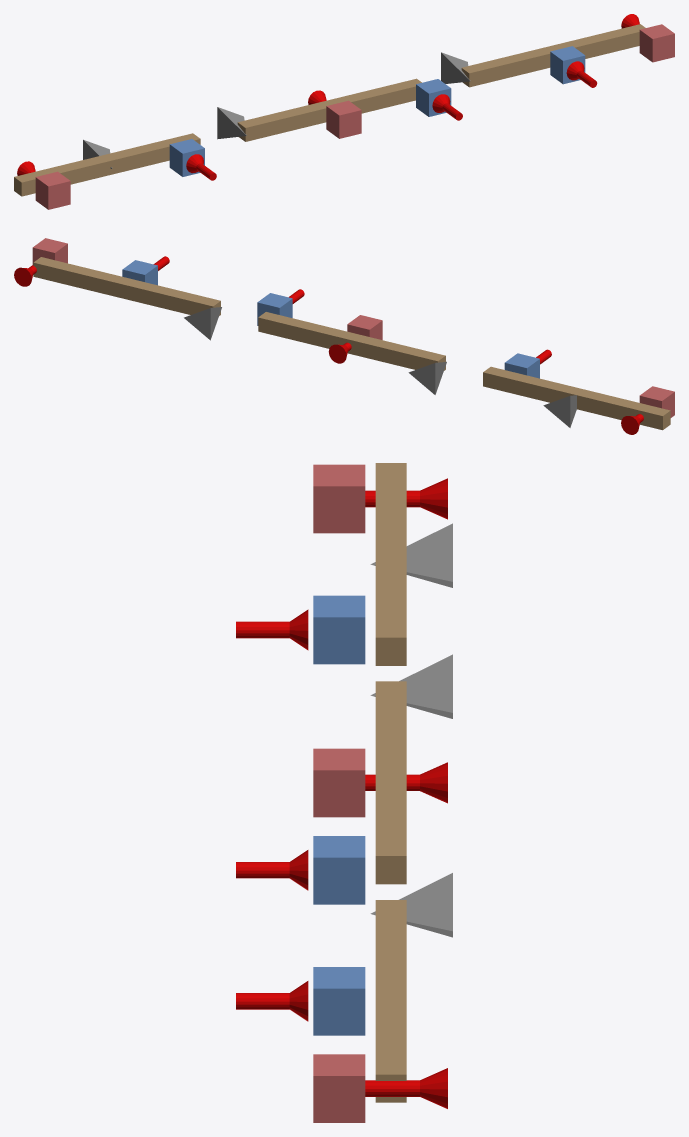
File: lever_types.glb
The picture shows the model from 3 angles, top to bottom: view 1: azimuth 30°, elevation 25°; view 2: azimuth 150°, elevation 25°; view 3: azimuth 270°, elevation 25°; orthographic projection. The views are drawn at different scales.
Visible parts, largest first — view 1: world; view 2: world; view 3: world.
Boxes of the visible parts, bbox=[...] form: world: bbox=[14, 14, 674, 209]; world: bbox=[14, 238, 674, 434]; world: bbox=[236, 463, 452, 1122].
Bounding box in the file's own units: 14.25 × 0.6928 × 2.1.
